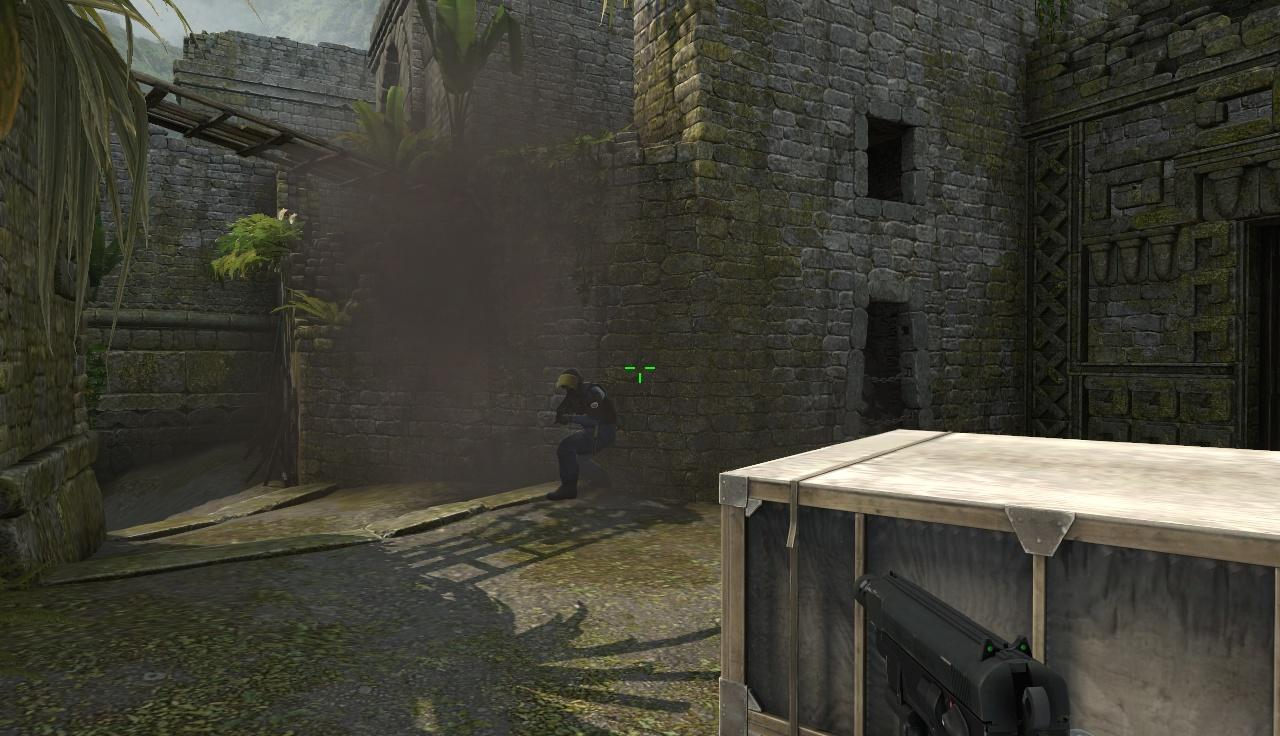ct: (552, 367, 612, 495)
cthead: (559, 369, 581, 393)
pistol: (842, 570, 1150, 736)
